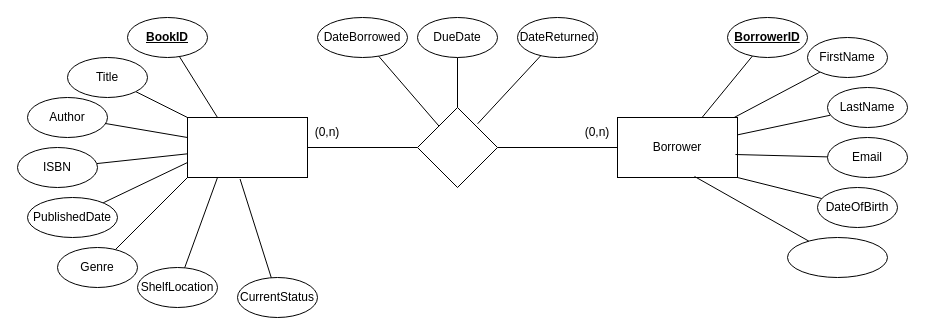
Some shapes in this 925 by 335 pixel diagram are drawn without their labels. The box of each missing label's shape, as (x1, y1, x2, y2) in pixels:
Book: (186, 116, 308, 178)
Borrowed: (416, 106, 498, 188)
MembershipDate: (786, 236, 888, 278)
